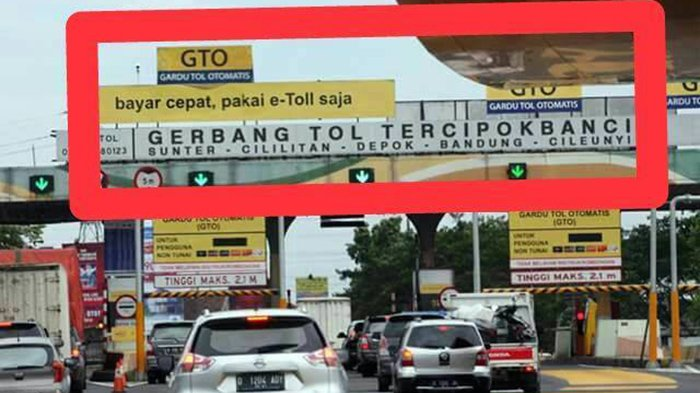plate: (237, 372, 285, 393)
